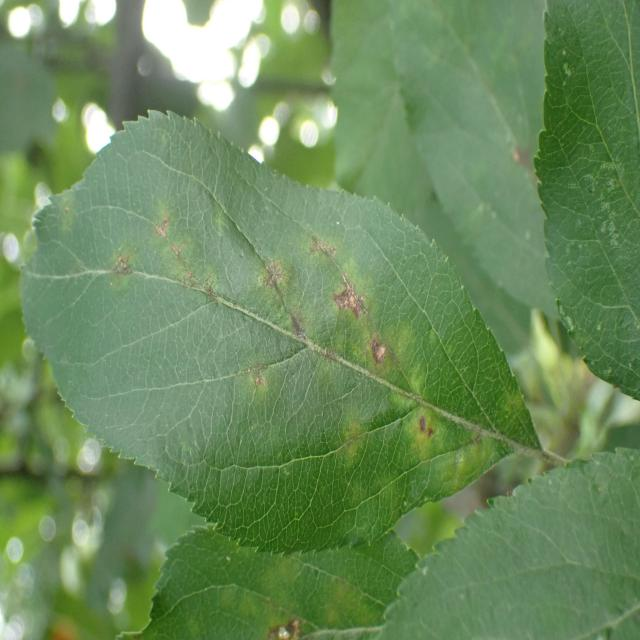scab: (51, 178, 518, 520)
